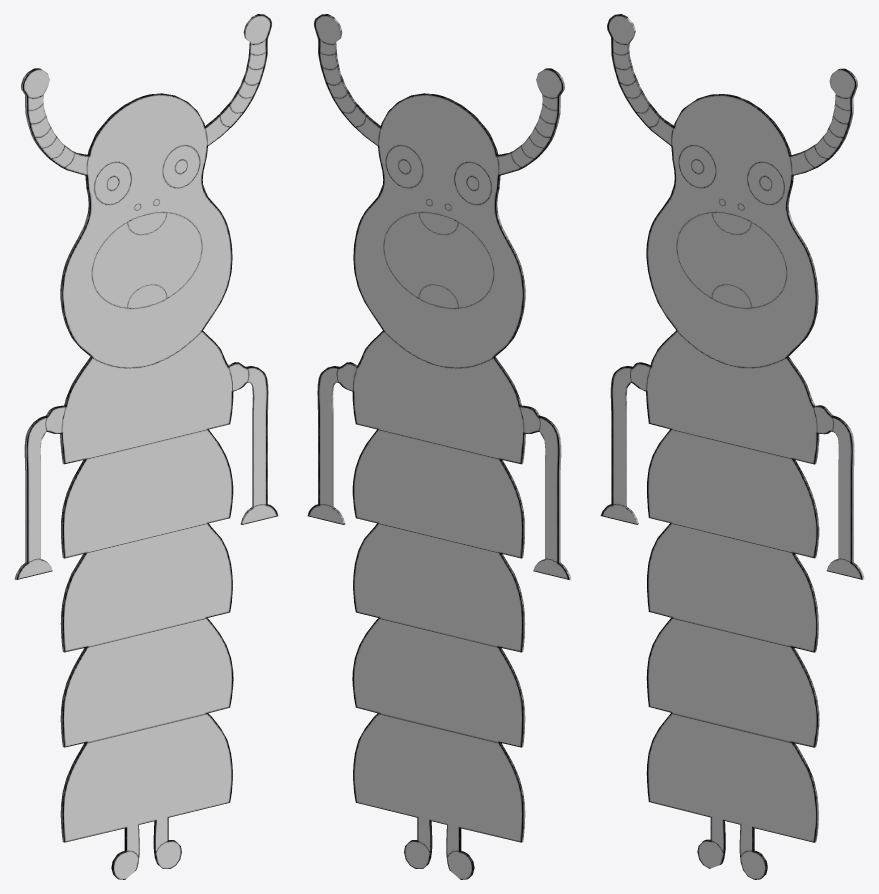
File: 12_hoga.fbx
The picture shows the model from 3 angles, left to right: view 1: azimuth 30°, elevation 25°; view 2: azimuth 150°, elevation 25°; view 3: azimuth 330°, elevation 25°; orthographic projection.
Visible parts, largest first — view 1: planarTrimmedSurface30; view 2: planarTrimmedSurface30; view 3: planarTrimmedSurface30.
Boxes of the visible parts, <box> form: planarTrimmedSurface30: <box>14,14,278,879</box>; planarTrimmedSurface30: <box>307,14,571,879</box>; planarTrimmedSurface30: <box>600,14,864,879</box>.
Bounding box in the file's own units: 19.28 × 58.3 × 0.1772.
Materials: 1 (1 with a texture image).
